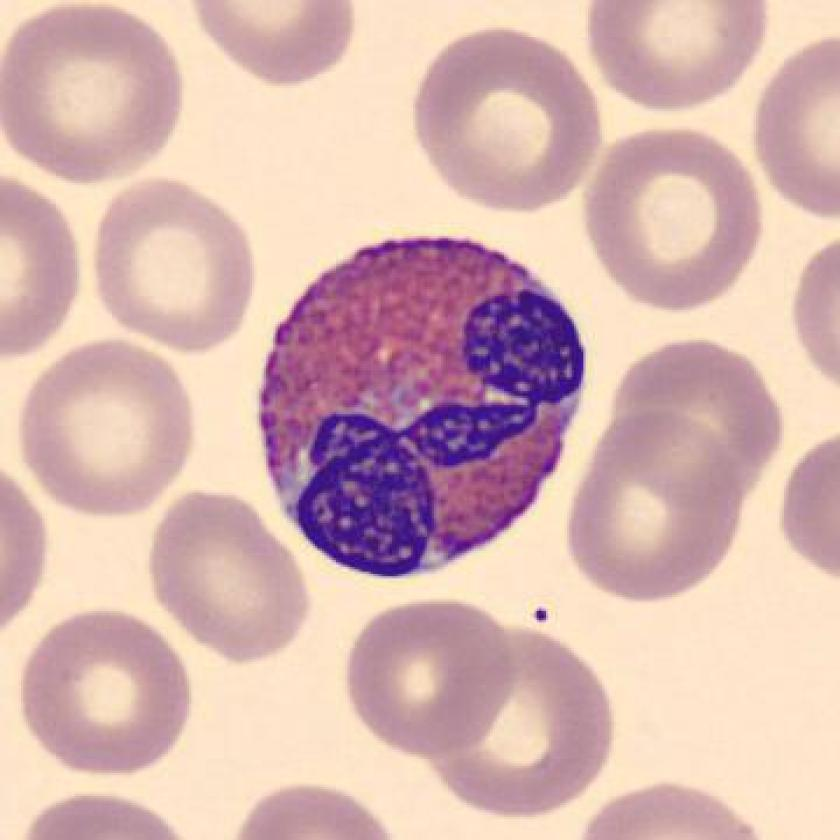eosinophil: (246, 223, 594, 589)
